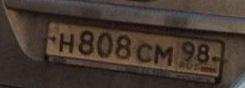license-plateSW: (45, 20, 222, 77)
